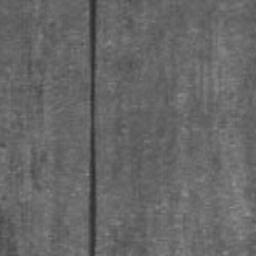Scratches: (89, 0, 97, 256)
